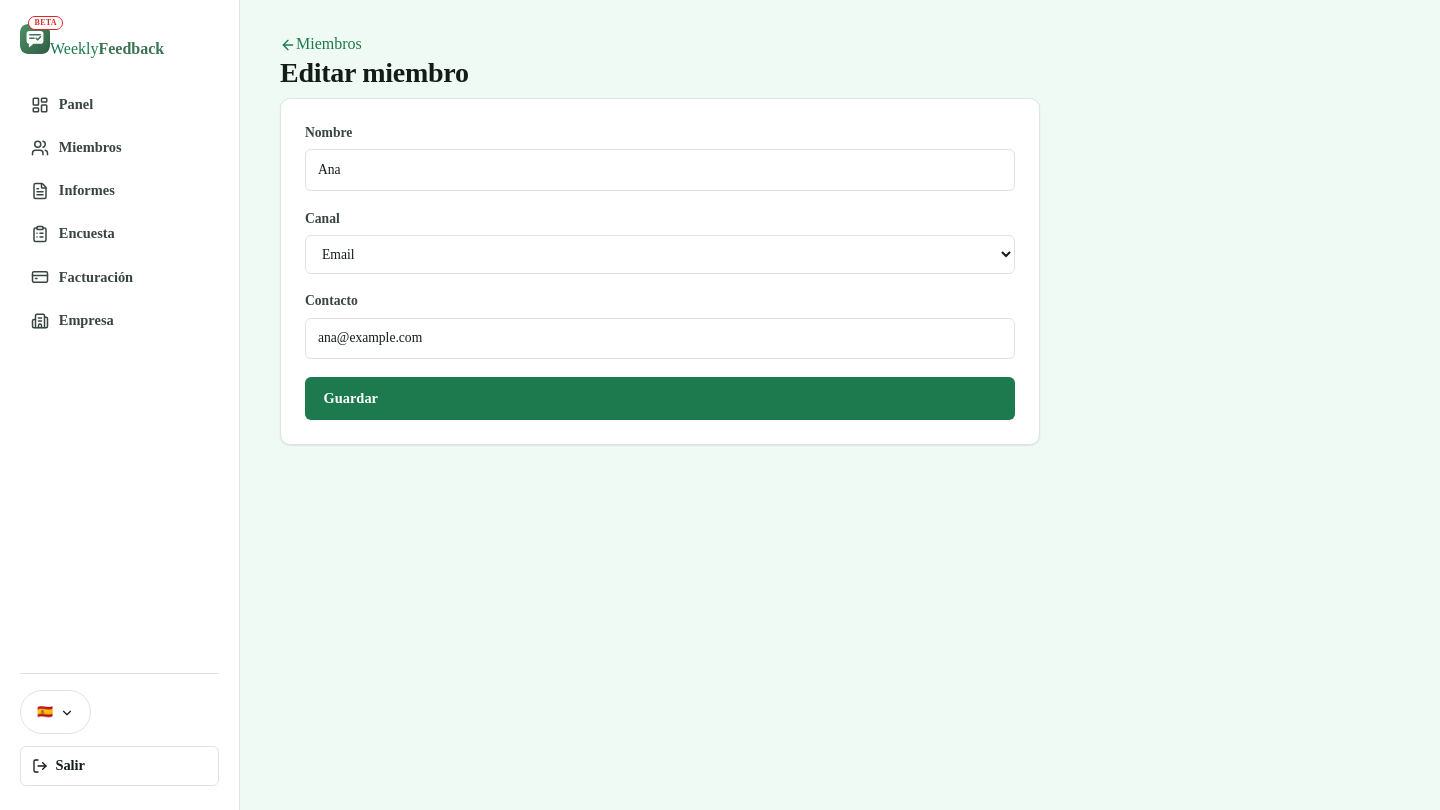
Test: EditMemberPage › fallo al guardar: muestra el mensaje real del backend, no navega
Expected: the field showing "Ana" is shown, 305,149 -> 1015,191
Click the button "Guardar" at {"x": 351, "y": 398}, box 305,377 -> 1015,420
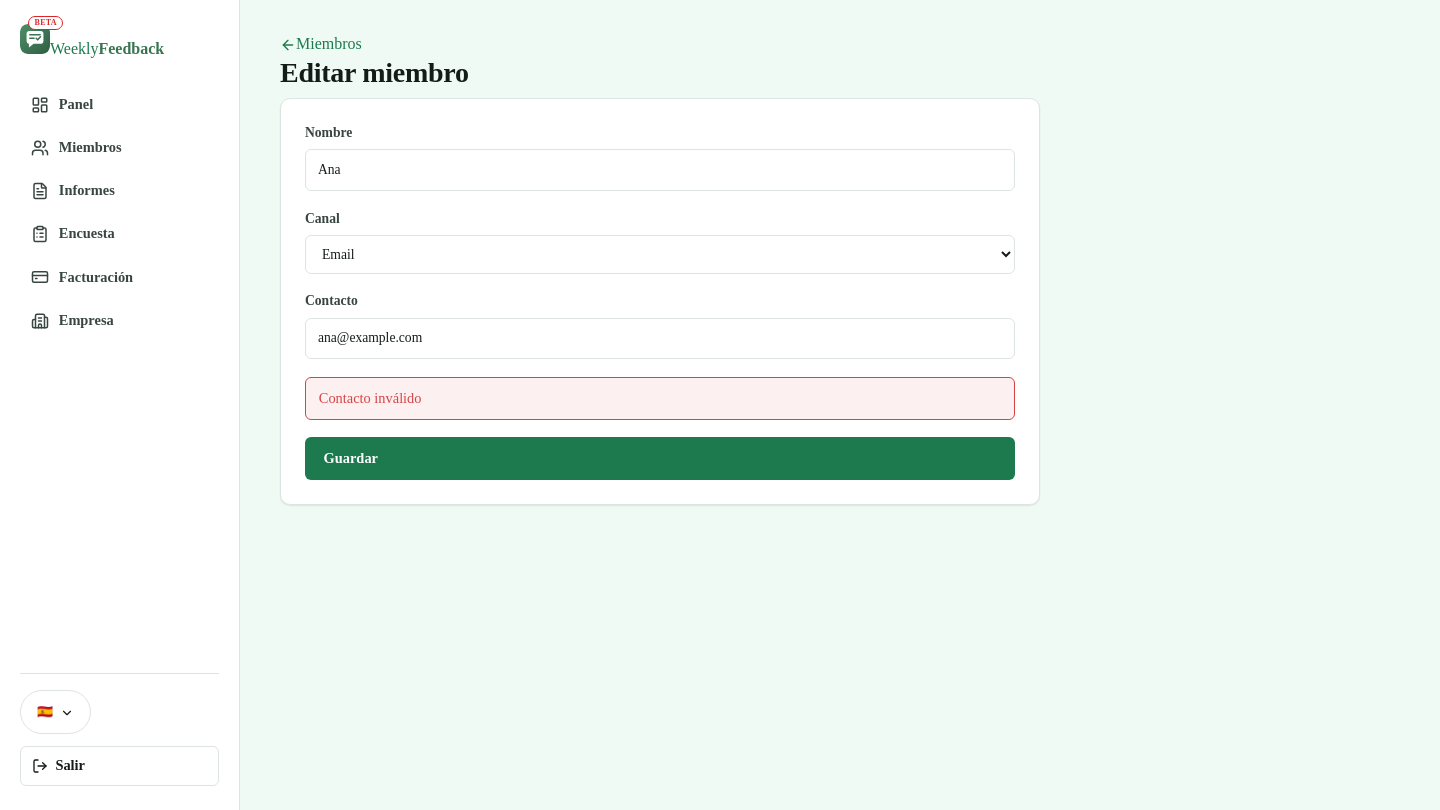
Now the message reads "Contacto inválido", box 319,390 -> 422,406
